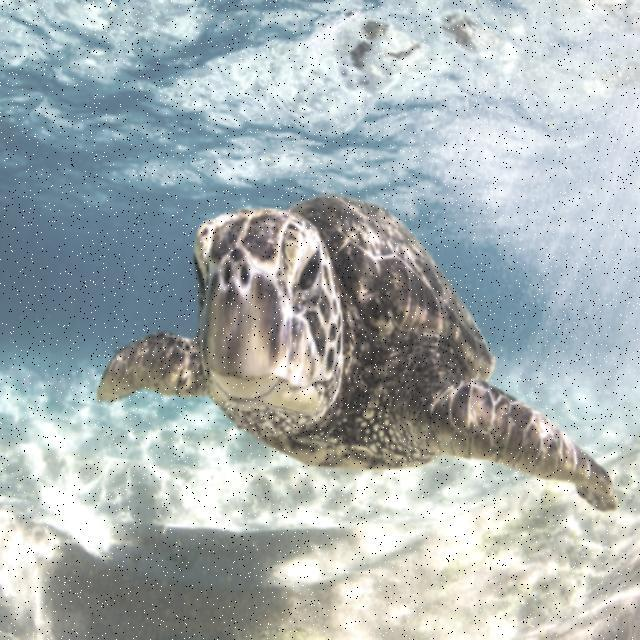tortoise: (97, 190, 618, 510)
